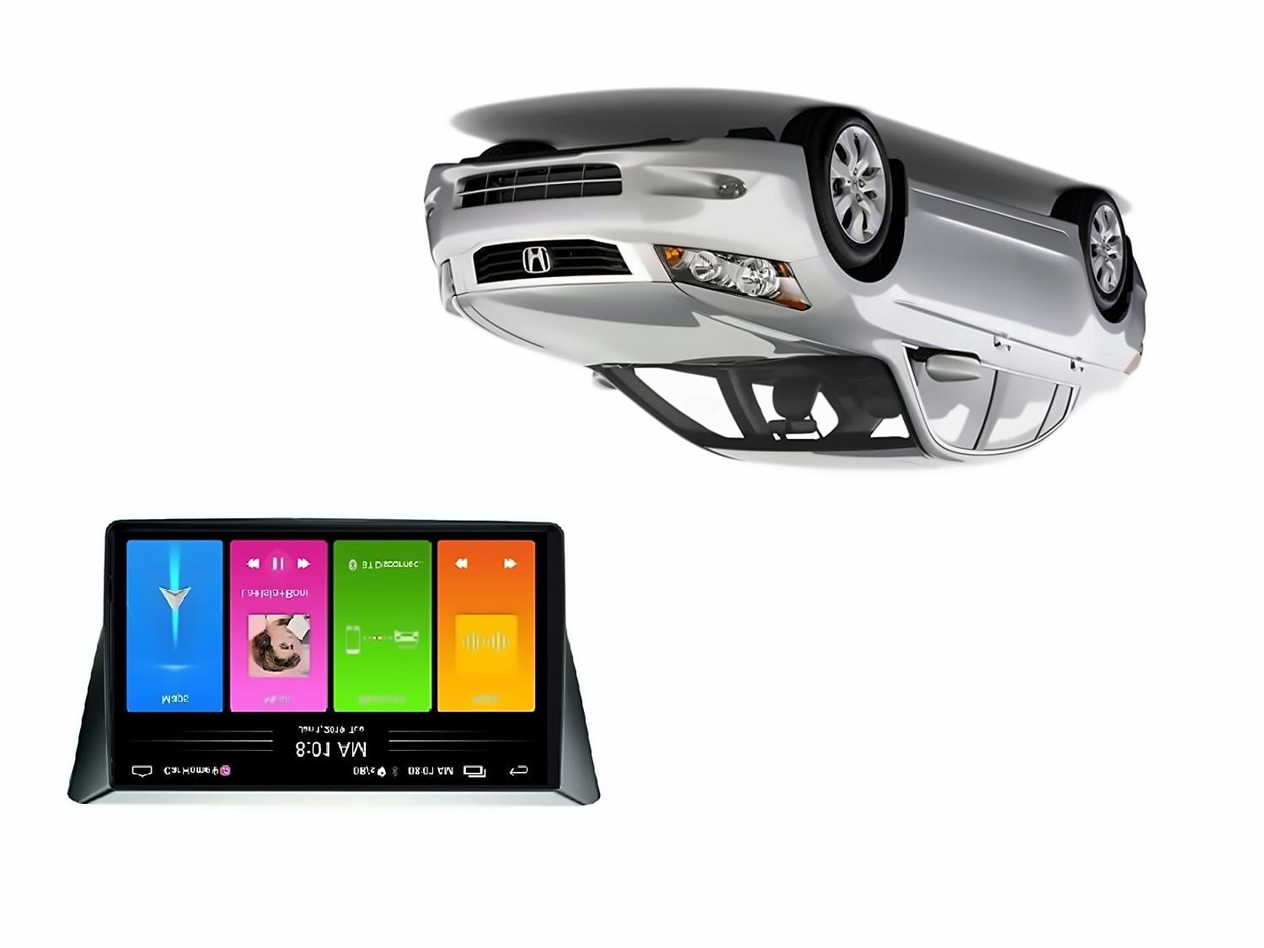Car hood: (440, 278, 830, 366)
Driver-s door - -F-R-: (903, 181, 998, 465)
Fender - -F-R-: (792, 167, 910, 372)
Fender - -R-L-: (1073, 222, 1133, 372)
Front bumper: (417, 128, 831, 253)
Headlight - -L-: (430, 250, 468, 324)
Headlight - -R-: (649, 239, 819, 315)
Passenger-s door - -R-R-: (999, 205, 1069, 466)
Rear bumper: (1121, 226, 1152, 333)
Rear light - -R-: (1119, 333, 1154, 383)
Side bumper - -R-: (891, 156, 1088, 261)
Side mirror - -L-: (569, 350, 627, 402)
Side mirror - -R-: (910, 345, 990, 388)
